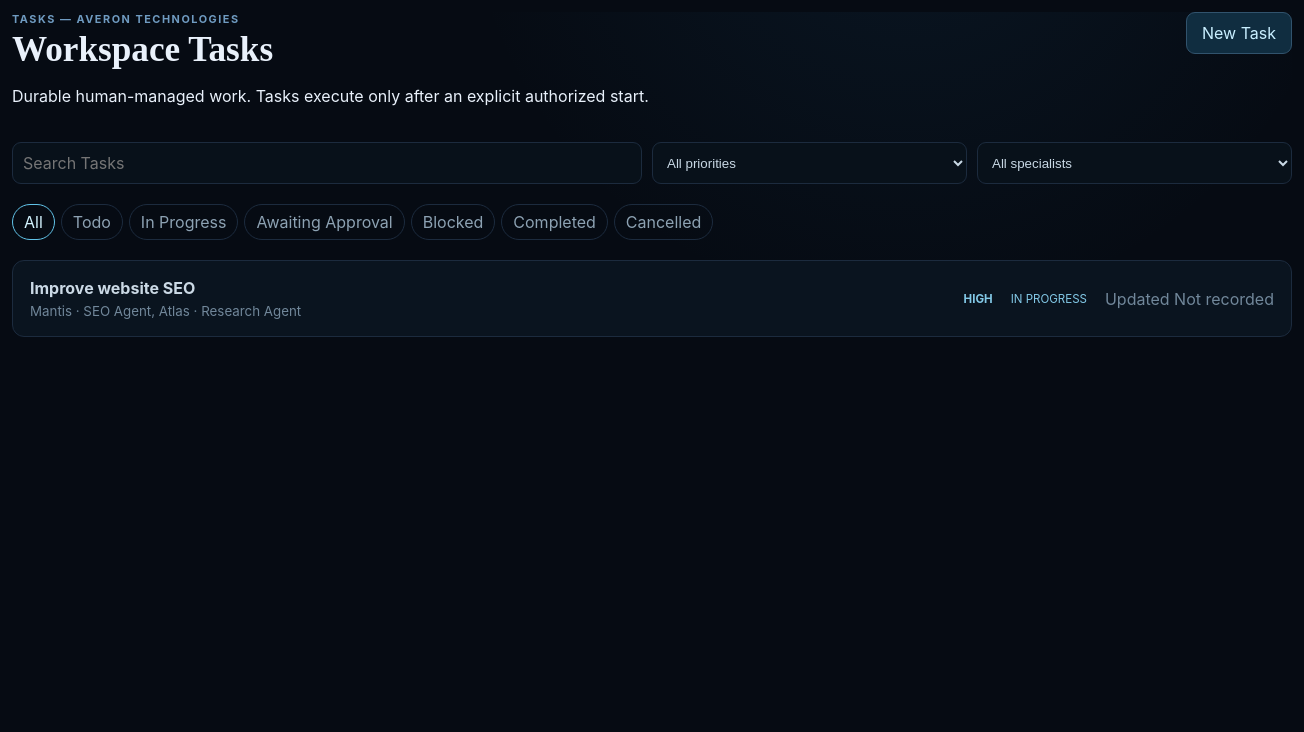
Tasks Control Center › renders canonical identities, filters and durable Task detail
expect the text "Improve website SEO" is shown: met, box [30,278,195,298]
Step 1. Click the button "Completed" → (555, 222), box [501,204,608,240]
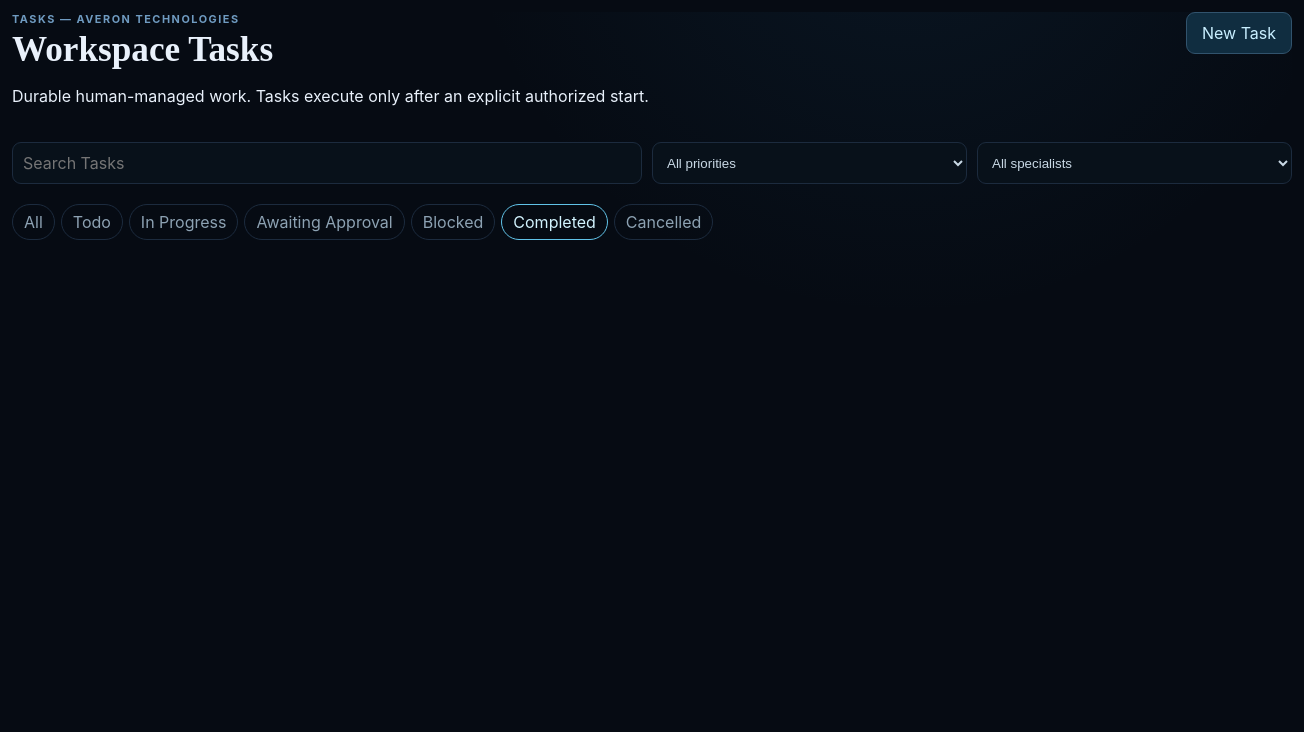
expect the button "Improve website SEO" is gone: met
Step 2. Click the button "All" → (33, 222), box [12,204,55,240]
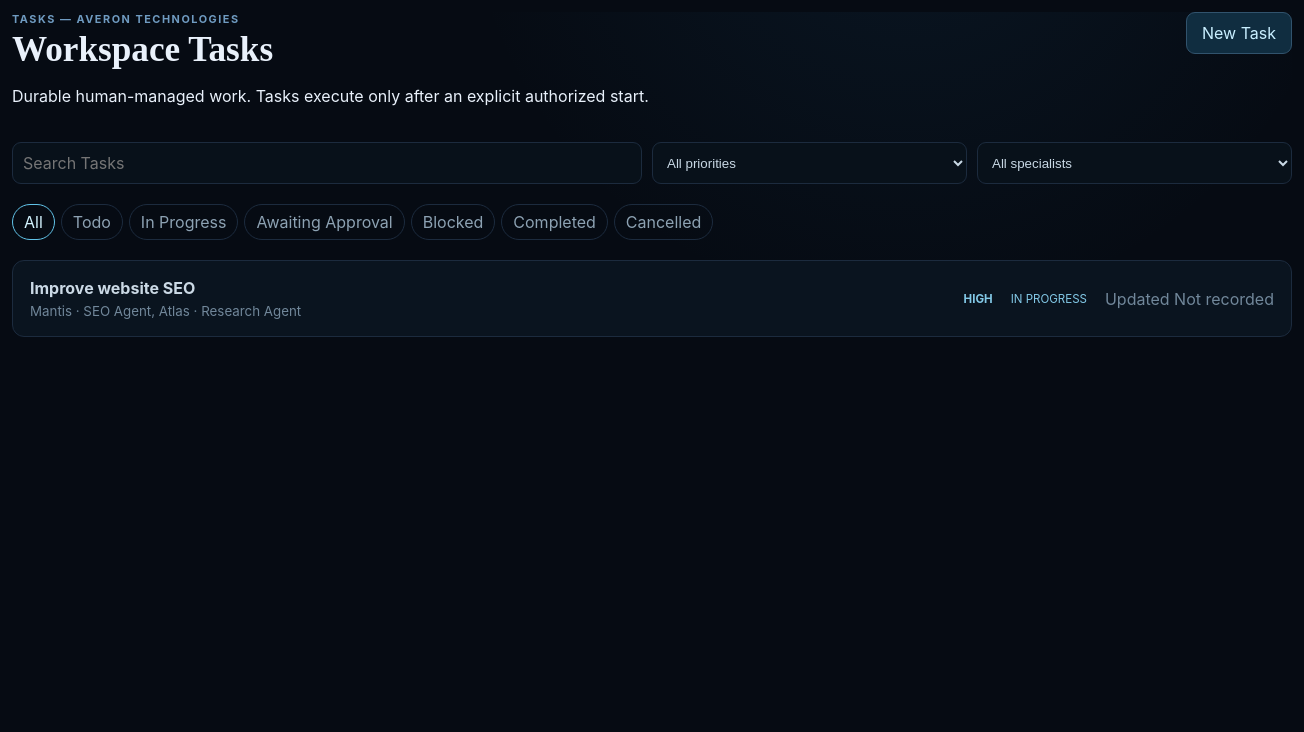
Step 3. Click the button "Improve website SEO" → (113, 288), box [12,260,1292,337]
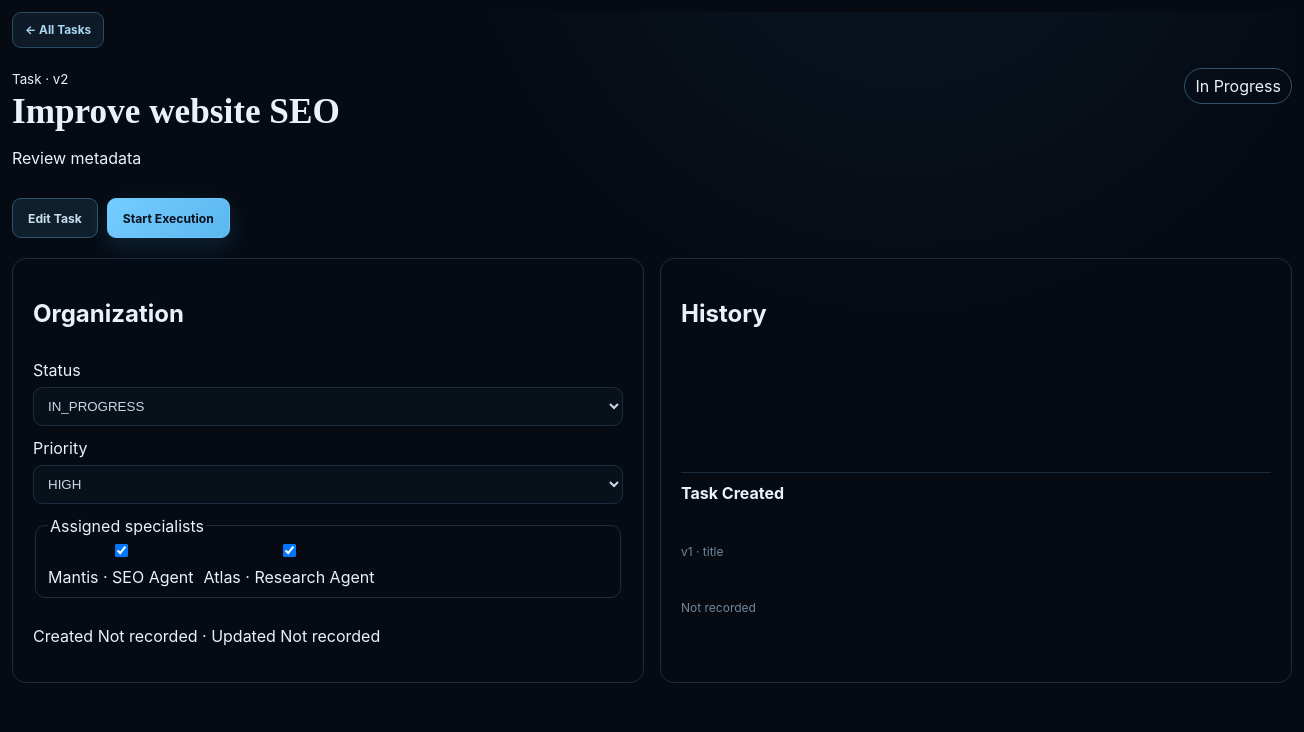
expect the heading "Organization" is shown: met, box [33,299,184,328]
expect the text "Task Created" is shown: met, box [681,483,784,503]
